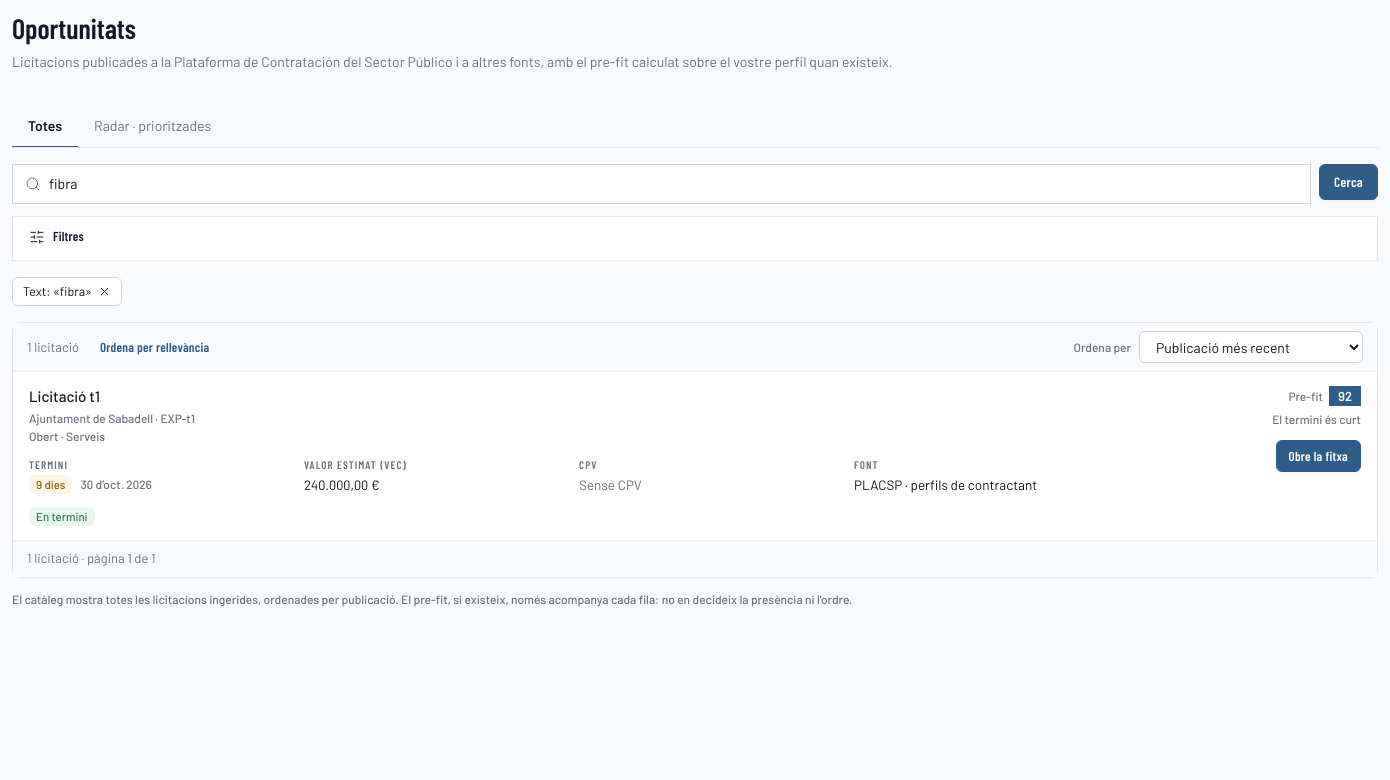
Test: Oportunitats · Totes (catàleg complet) › amb text, «Ordena per rellevància» només canvia l'ordre i ho diu: cap resultat amagat (C6)
Expected: the link "Licitació t1" is shown, [29,387,100,405]
Click the button "Ordena per rellevància" at [155, 347], box [87,331,222,363]
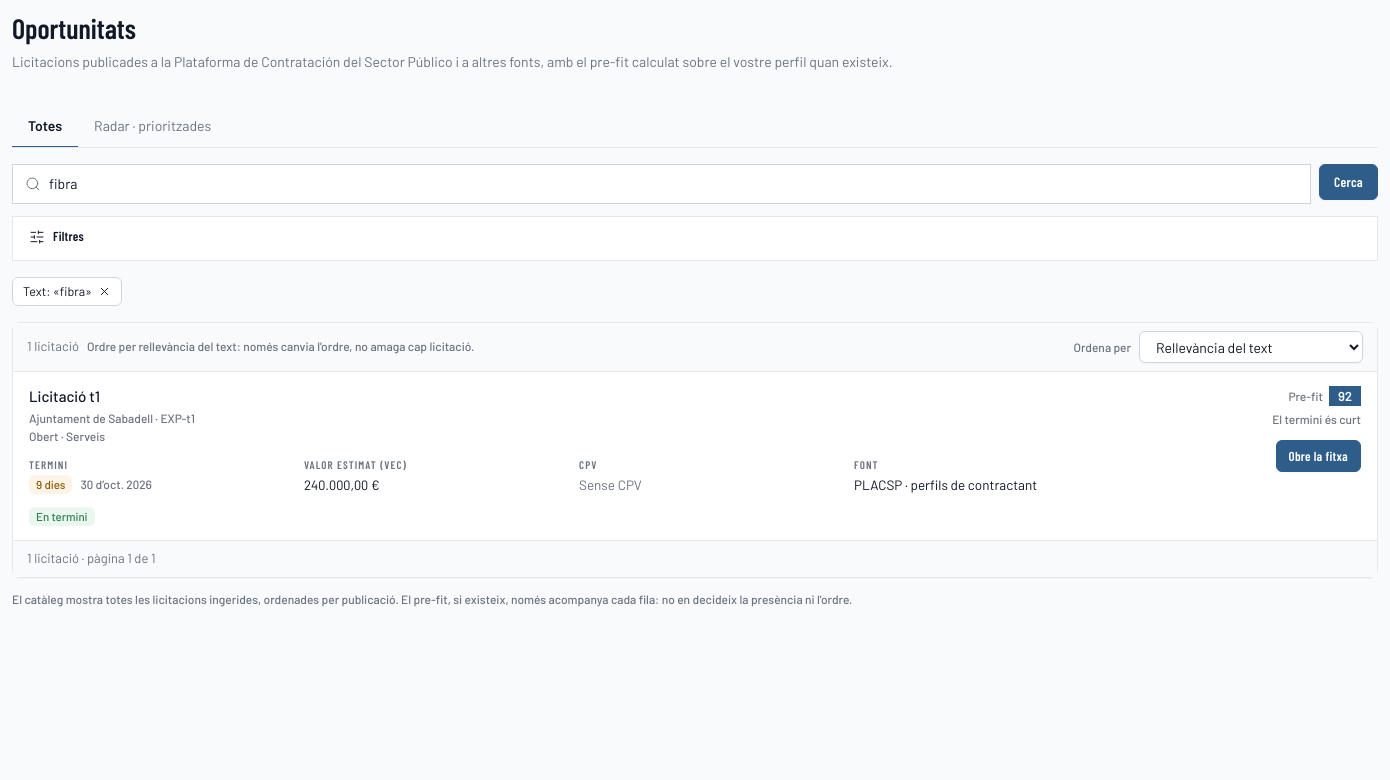
Now the button "Ordena per rellevància" is gone
Now the text "només canvia l'ordre, no amaga cap licitació" is shown, box [87,339,474,353]
Now the dropdown labelled "Ordena per" shows "Rellevància del text", box [1139,331,1363,363]
